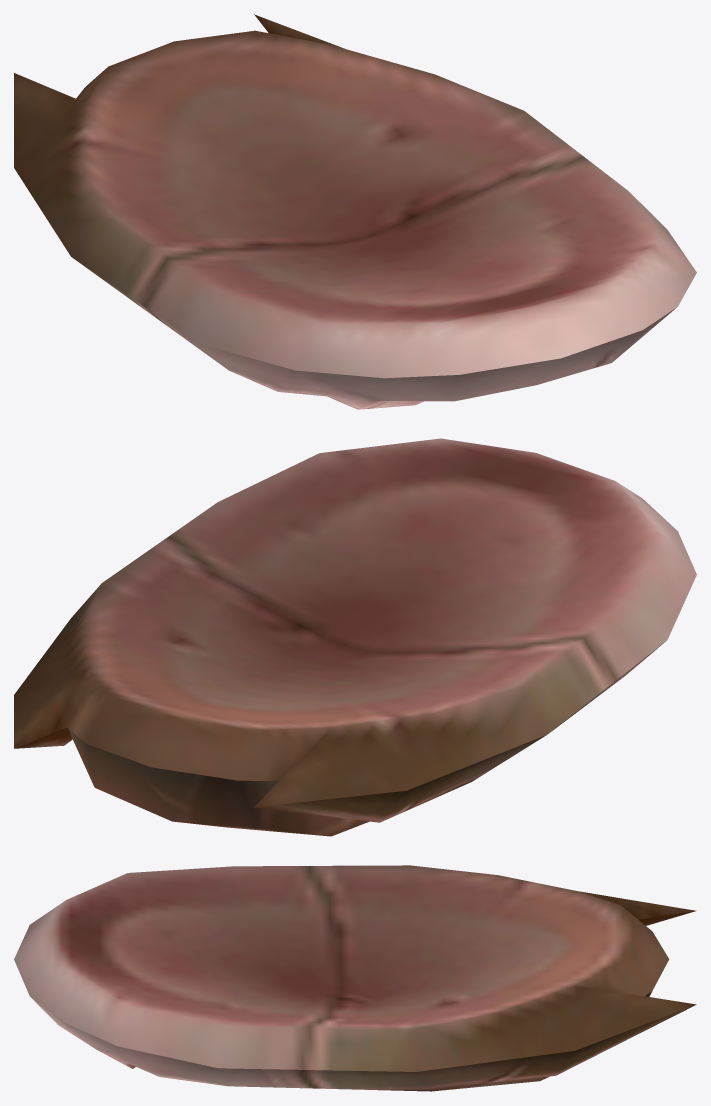
The picture shows the model from 3 angles, top to bottom: view 1: azimuth 30°, elevation 25°; view 2: azimuth 150°, elevation 25°; view 3: azimuth 270°, elevation 25°; orthographic projection. The views are drawn at different scales.
Visible parts, largest first — view 1: owilite.model_r3-Mesh[0]; view 2: owilite.model_r3-Mesh[0]; view 3: owilite.model_r3-Mesh[0].
Boxes of the visible parts, x1,y1,x2,y2 form: owilite.model_r3-Mesh[0]: (14, 14, 696, 409); owilite.model_r3-Mesh[0]: (14, 438, 696, 836); owilite.model_r3-Mesh[0]: (14, 865, 696, 1091).
Size of the model in its own units: 0.4361 by 0.1399 by 0.6768.
1 material, 1 textured.
